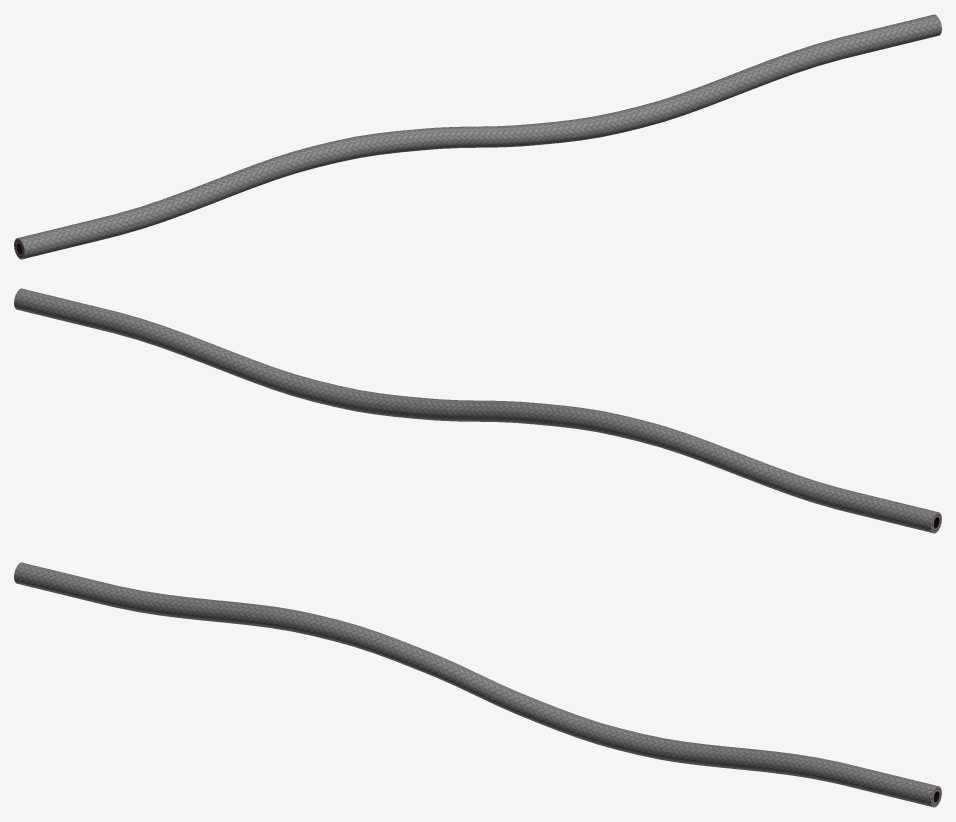
The picture shows the model from 3 angles, top to bottom: view 1: azimuth 30°, elevation 25°; view 2: azimuth 150°, elevation 25°; view 3: azimuth 330°, elevation 25°; orthographic projection.
Parts seen in each view (by area): view 1: SB_SS-03; view 2: SB_SS-03; view 3: SB_SS-03.
Boxes of the visible parts, x1,y1,x2,y2 form: SB_SS-03: (14, 14, 941, 259); SB_SS-03: (14, 288, 941, 533); SB_SS-03: (14, 562, 941, 807).
Bounding box in the file's own units: 0.3074 × 0.0191 × 0.00635.
Materials: 2 (2 with a texture image).
